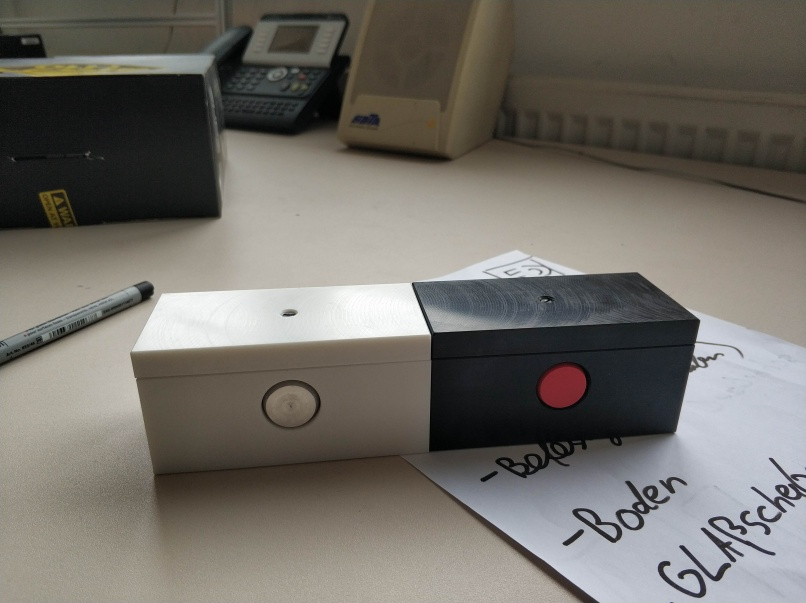black+black+red: (412, 270, 702, 453)
white+white+silver: (127, 276, 434, 480)
